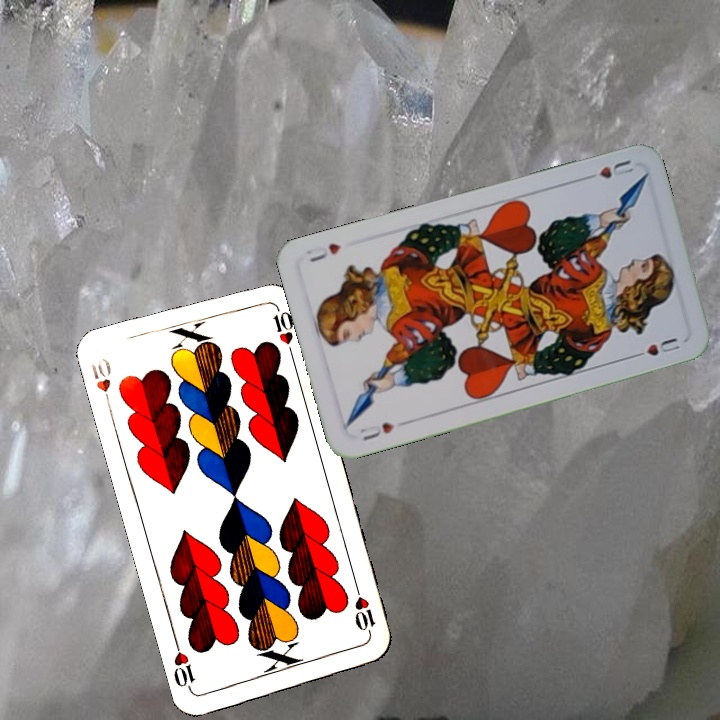H10: (350, 582, 378, 641), (87, 353, 114, 412)
HU: (579, 155, 636, 183), (355, 418, 397, 443)
